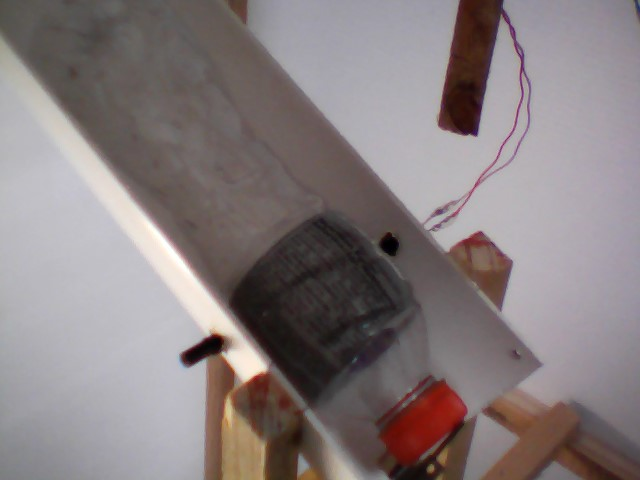plastico: (26, 1, 470, 467)
